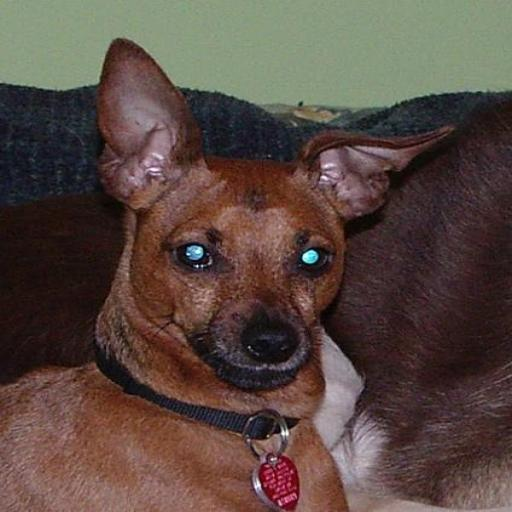dog_face: (91, 40, 429, 414)
